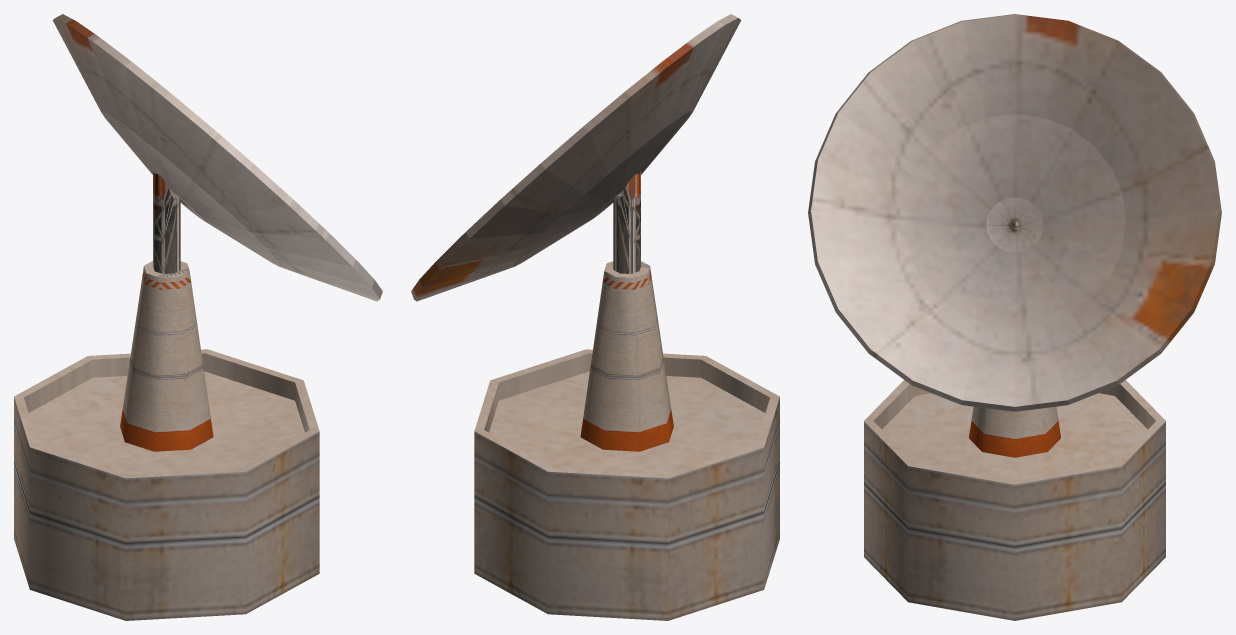
Rendered from strategic_satellite_dish.dae.
3 views of the same model, side by side, from view 1: azimuth 30°, elevation 25°; view 2: azimuth 150°, elevation 25°; view 3: azimuth 270°, elevation 25° (orthographic). The views are drawn at different scales.
Visible parts, largest first — view 1: Cylinder.001; view 2: Cylinder.001; view 3: Cylinder.001.
Boxes of the visible parts, left/top/right/bottom form: Cylinder.001: left=14, top=14, right=382, bottom=620; Cylinder.001: left=411, top=14, right=779, bottom=620; Cylinder.001: left=808, top=14, right=1221, bottom=620.
Size of the model in its own units: 15.82 by 18.96 by 25.84.
